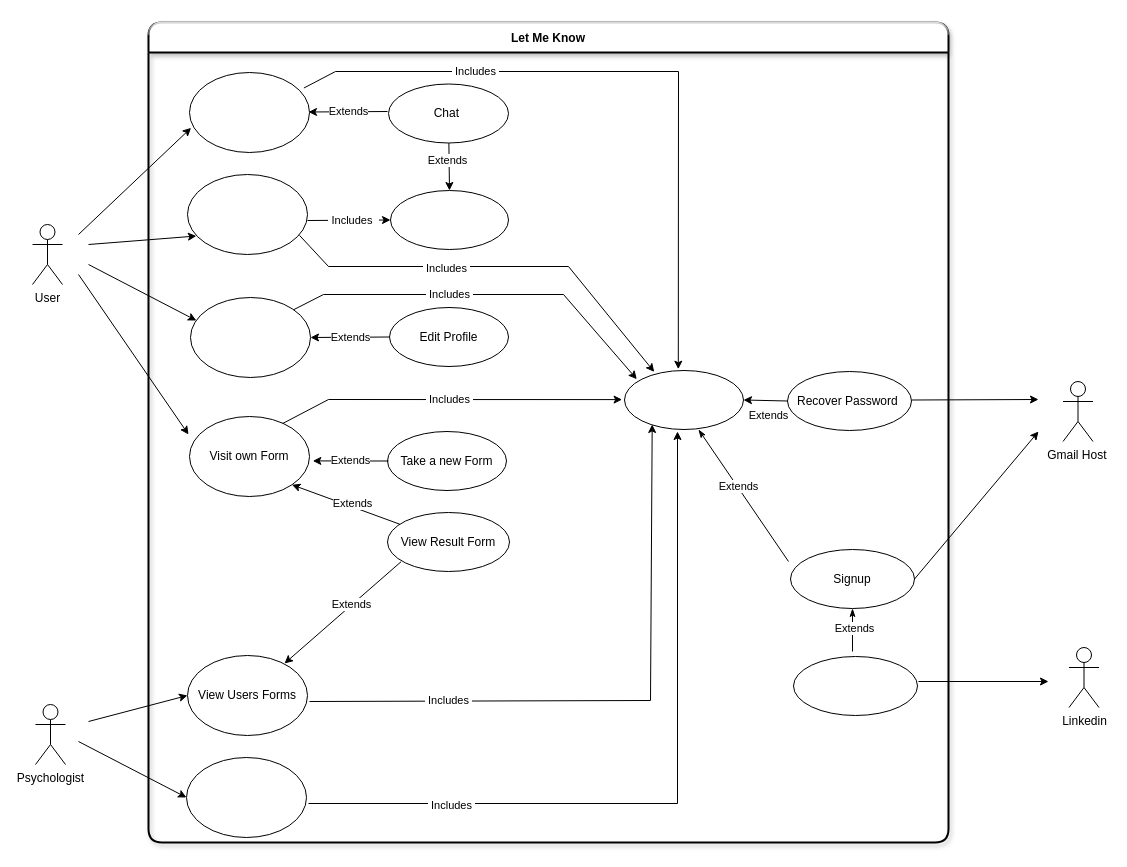
Some shapes in this 1127 by 867 pixel diagram are drawn without their labels. Here are the shapes that lost their labels. From the top down, the centre of each, then its label:
[249,112]: See Recent chat
[247,214]: Search Users
[449,220]: Visit profile
[250,337]: See Personal Profile
[684,400]: Log in
[855,686]: Signup Psychologist
[246,797]: Suggest New Question
